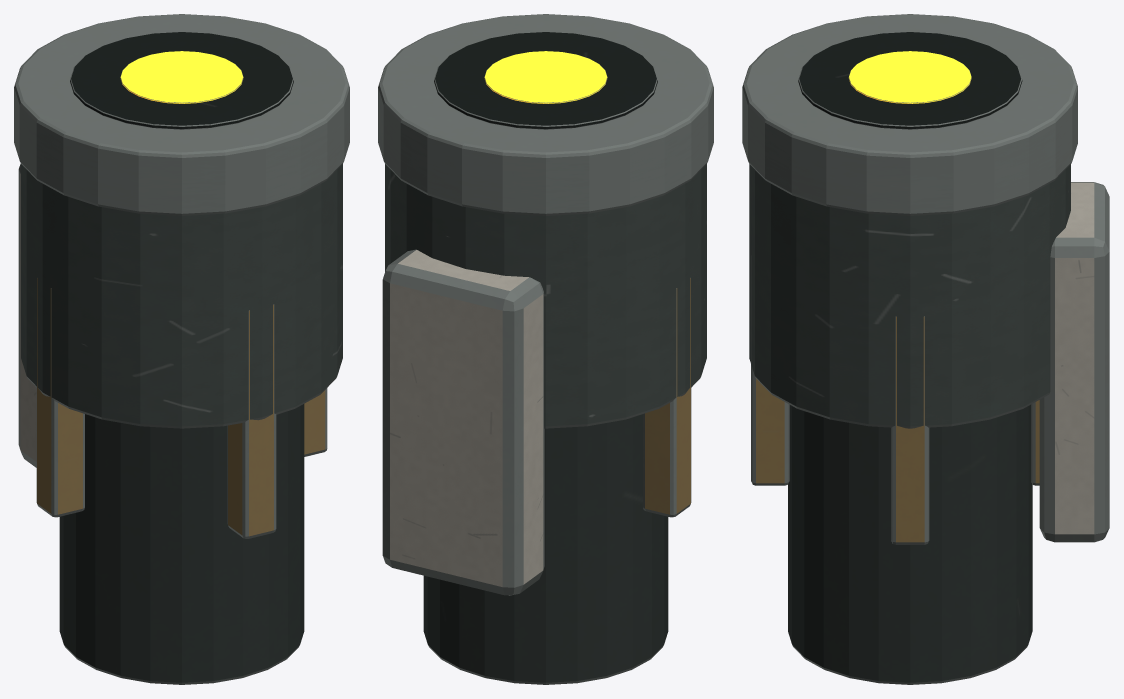
Rendered from arm_cannon-t3.glb.
The picture shows the model from 3 angles, left to right: view 1: azimuth 30°, elevation 25°; view 2: azimuth 150°, elevation 25°; view 3: azimuth 270°, elevation 25°; orthographic projection.
Visible parts, largest first — view 1: Emitter shell, Forearm recoil sleeve, Emitter collar, Deep emitter bore, Charge chamber rail.003, Charge chamber rail.002, Emitter recessed lens, Emitter dorsal shield, Charge chamber rail; view 2: Emitter dorsal shield, Emitter shell, Emitter collar, Forearm recoil sleeve, Deep emitter bore, Charge chamber rail.002, Emitter recessed lens; view 3: Emitter shell, Forearm recoil sleeve, Emitter collar, Emitter dorsal shield, Deep emitter bore, Emitter recessed lens, Charge chamber rail, Charge chamber rail.003, Charge chamber rail.001.
Part boxes in pixels (x1,y1,x2,y2): Emitter shell: (21,164,342,428); Forearm recoil sleeve: (59,404,304,684); Emitter collar: (14,14,349,215); Deep emitter bore: (70,32,293,129); Charge chamber rail.003: (227,304,276,538); Charge chamber rail.002: (36,278,84,517); Emitter recessed lens: (120,51,243,103); Emitter dorsal shield: (18,163,36,467); Charge chamber rail: (304,388,327,456); Emitter dorsal shield: (382,249,544,595); Emitter shell: (385,164,706,428); Emitter collar: (378,14,713,215); Forearm recoil sleeve: (423,414,668,684); Deep emitter bore: (434,32,657,129); Charge chamber rail.002: (643,278,691,517); Emitter recessed lens: (484,51,607,103); Emitter shell: (749,164,1070,428); Forearm recoil sleeve: (788,404,1032,684); Emitter collar: (742,14,1077,215); Emitter dorsal shield: (1039,182,1109,542); Deep emitter bore: (798,32,1022,129); Emitter recessed lens: (848,51,971,103); Charge chamber rail: (891,316,929,544); Charge chamber rail.003: (751,255,789,485); Charge chamber rail.001: (1031,400,1039,485).
Bounding box in the file's own units: 0.48 × 0.88 × 0.525.
7 materials, 6 textured.
